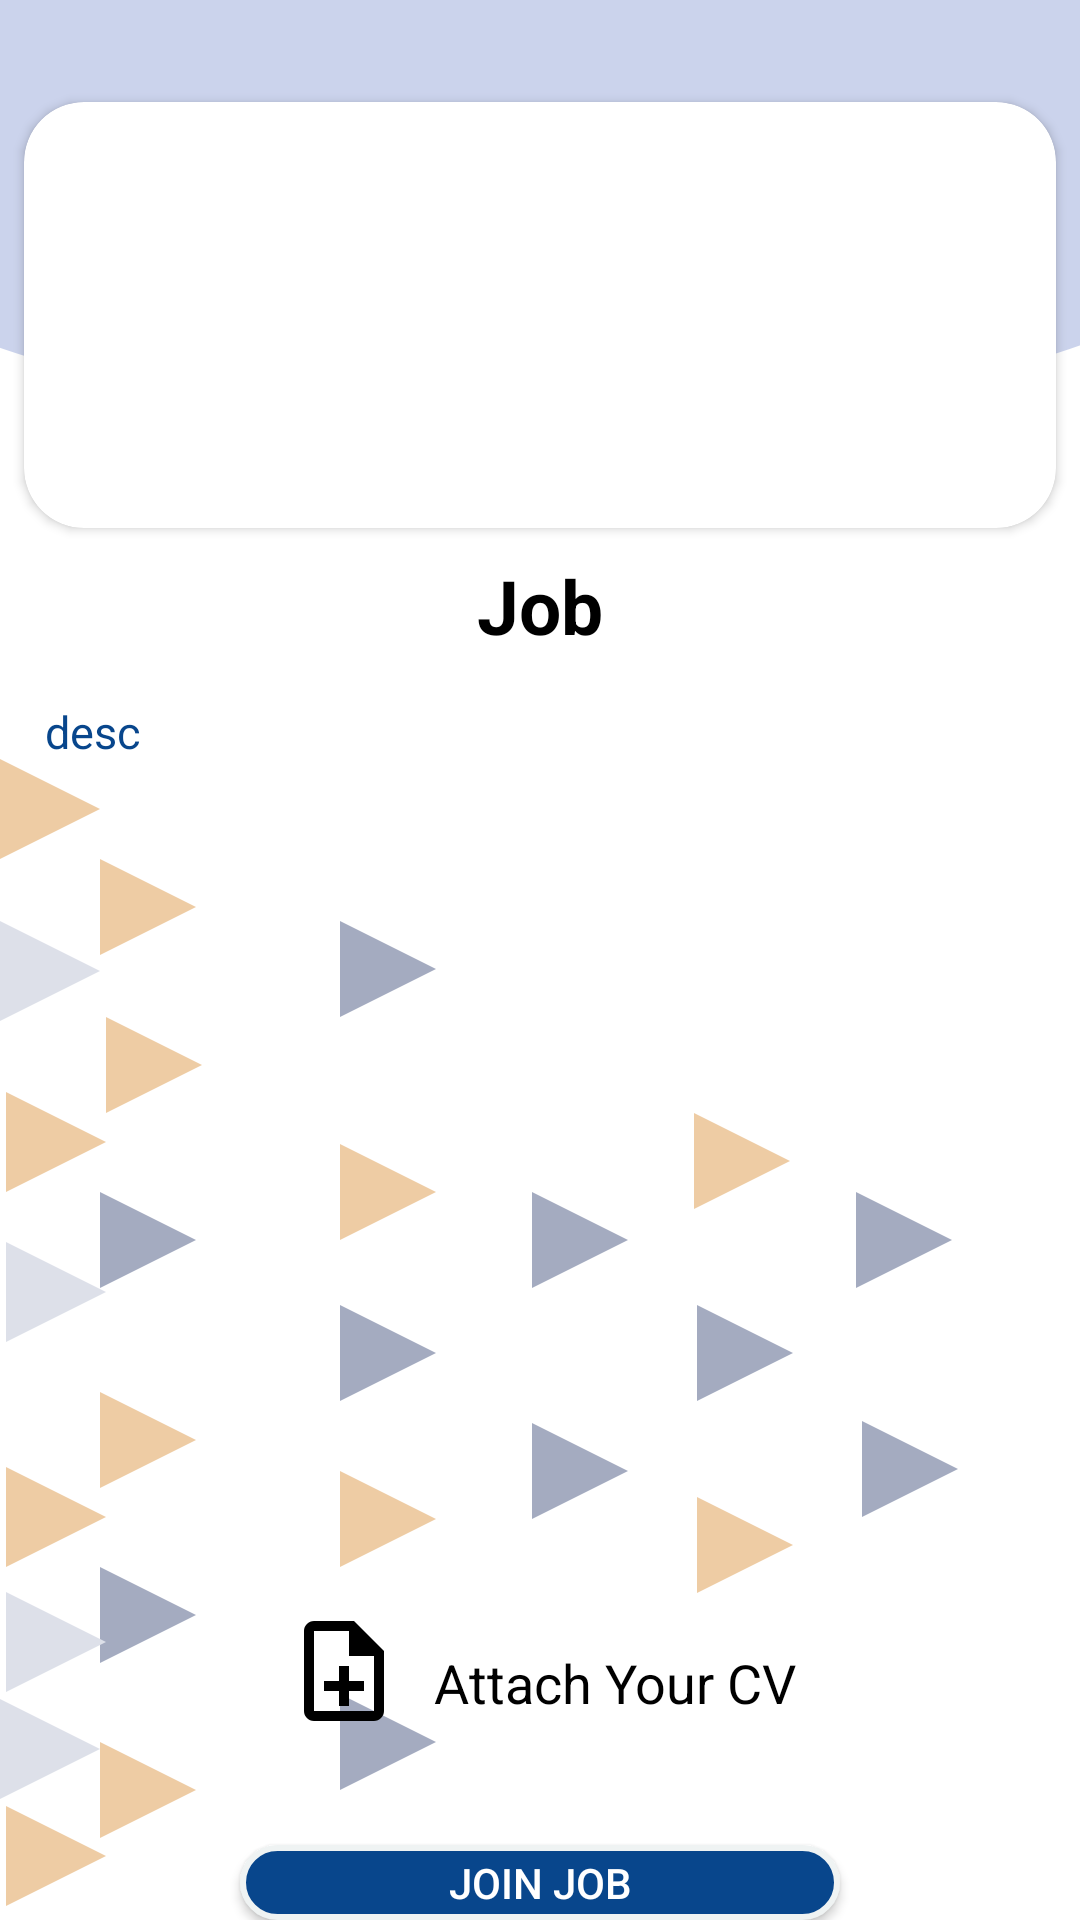

Where icons sit on this 1080x1920 app screen, as bbox=(x1, y1, x2, y2):
add: bbox=(304, 1621, 404, 1731)
